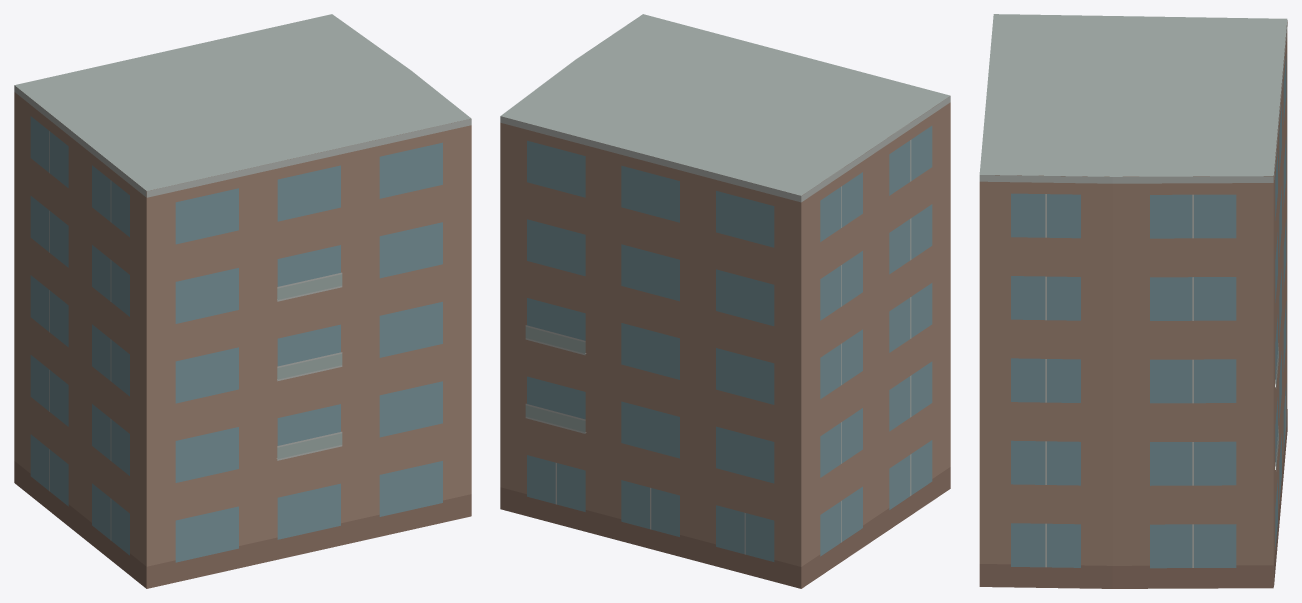
The model's file is survey-upis-33026414.glb.
3 renders of one model, left to right at view 1: azimuth 30°, elevation 25°; view 2: azimuth 150°, elevation 25°; view 3: azimuth 270°, elevation 25°, orthographic. The views are drawn at different scales.
Visible parts, largest first — view 1: survey-upis-33026414.tmp; view 2: survey-upis-33026414.tmp; view 3: survey-upis-33026414.tmp.
Part boxes in pixels (x1=…): survey-upis-33026414.tmp: x1=14, y1=14, x2=471, y2=588; survey-upis-33026414.tmp: x1=500, y1=14, x2=950, y2=588; survey-upis-33026414.tmp: x1=979, y1=14, x2=1287, y2=588.
Bounding box in the file's own units: 12.38 × 14.6 × 9.9.
